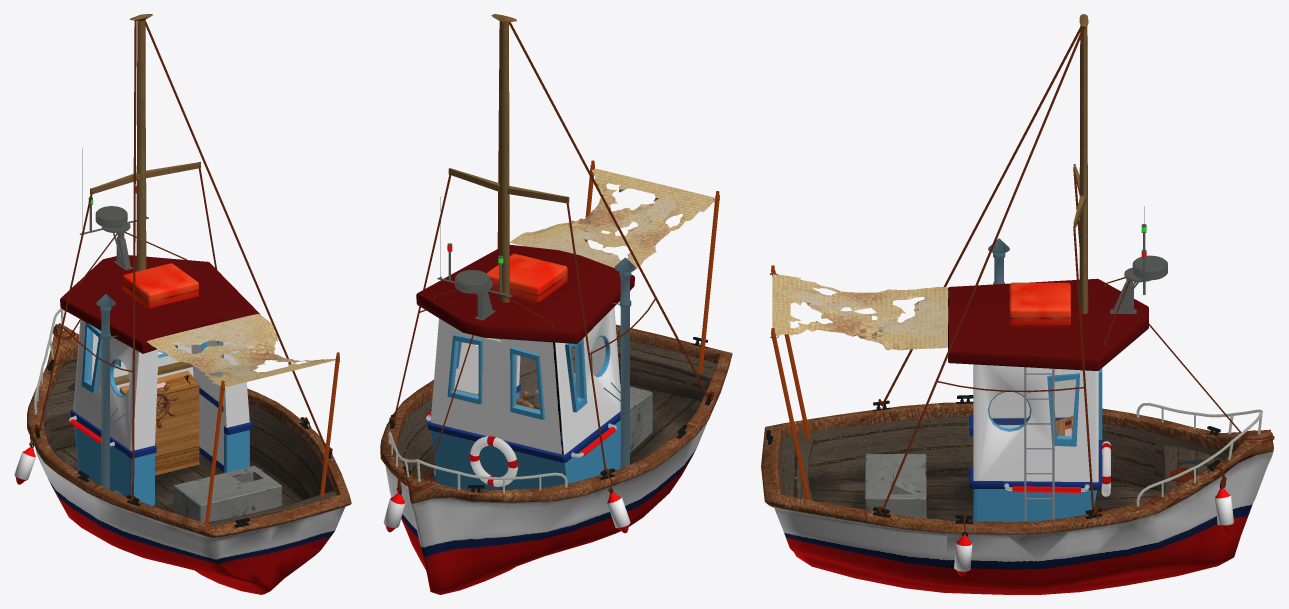
File: boat.glb
3 renders of one model, left to right at view 1: azimuth 30°, elevation 25°; view 2: azimuth 150°, elevation 25°; view 3: azimuth 270°, elevation 25°, orthographic. The views are drawn at different scales.
Parts seen in each view (by area): view 1: Material-CABINA, Material-BARCA-ESTERNO, Material-BARCA_INTERNO, Material-TENDA, Material-MOTORE, Material-CORDE-scure, Material-ALBERO-MAIN, Material-RINGHIERA, Material-SALVAGENTE-TETTO, Material-PIPE, Material-ANTENNA, Material-PARABORDI (+1 smaller); view 2: Material-CABINA, Material-BARCA-ESTERNO, Material-BARCA_INTERNO, Material-TENDA, Material-RINGHIERA, Material-CORDE-scure, Material-ALBERO-MAIN, Material-SALVAGENTE-TETTO, Material-PIPE, Material-ANTENNA, Material-MOTORE, Material-PARABORDI; view 3: Material-BARCA-ESTERNO, Material-CABINA, Material-BARCA_INTERNO, Material-TENDA, Material-RINGHIERA, Material-CORDE-scure, Material-MOTORE, Material-SALVAGENTE-TETTO, Material-ALBERO-MAIN, Material-ANTENNA, Material-PARABORDI.
Part boxes in pixels (x1=…): Material-CABINA: x1=60, y1=255, x2=260, y2=506; Material-BARCA-ESTERNO: x1=27, y1=323, x2=351, y2=594; Material-BARCA_INTERNO: x1=42, y1=357, x2=336, y2=525; Material-TENDA: x1=147, y1=314, x2=335, y2=386; Material-MOTORE: x1=173, y1=465, x2=281, y2=522; Material-CORDE-scure: x1=29, y1=19, x2=339, y2=502; Material-ALBERO-MAIN: x1=90, y1=14, x2=200, y2=385; Material-RINGHIERA: x1=30, y1=308, x2=339, y2=527; Material-SALVAGENTE-TETTO: x1=122, y1=263, x2=198, y2=308; Material-PIPE: x1=96, y1=294, x2=125, y2=494; Material-ANTENNA: x1=80, y1=148, x2=148, y2=270; Material-PARABORDI: x1=14, y1=447, x2=35, y2=484; Material-CABINA: x1=416, y1=244, x2=634, y2=490; Material-BARCA-ESTERNO: x1=380, y1=324, x2=732, y2=594; Material-BARCA_INTERNO: x1=397, y1=338, x2=716, y2=481; Material-TENDA: x1=509, y1=168, x2=715, y2=272; Material-RINGHIERA: x1=388, y1=160, x2=719, y2=494; Material-CORDE-scure: x1=386, y1=21, x2=719, y2=493; Material-ALBERO-MAIN: x1=448, y1=14, x2=569, y2=410; Material-SALVAGENTE-TETTO: x1=486, y1=253, x2=567, y2=302; Material-PIPE: x1=603, y1=257, x2=635, y2=468; Material-ANTENNA: x1=437, y1=197, x2=512, y2=320; Material-MOTORE: x1=534, y1=373, x2=652, y2=452; Material-PARABORDI: x1=383, y1=492, x2=630, y2=533; Material-BARCA-ESTERNO: x1=761, y1=402, x2=1273, y2=594; Material-CABINA: x1=948, y1=278, x2=1148, y2=521; Material-BARCA_INTERNO: x1=779, y1=416, x2=1229, y2=520; Material-TENDA: x1=772, y1=274, x2=948, y2=350; Material-RINGHIERA: x1=766, y1=265, x2=1262, y2=536; Material-CORDE-scure: x1=770, y1=26, x2=1274, y2=534; Material-MOTORE: x1=865, y1=454, x2=926, y2=518; Material-SALVAGENTE-TETTO: x1=1009, y1=282, x2=1070, y2=326; Material-ALBERO-MAIN: x1=1073, y1=14, x2=1088, y2=314; Material-ANTENNA: x1=1110, y1=206, x2=1167, y2=313; Material-PARABORDI: x1=954, y1=488, x2=1233, y2=576.
Bounding box in the file's own units: 4.27 × 8.55 × 6.93.
19 materials, 19 textured.
